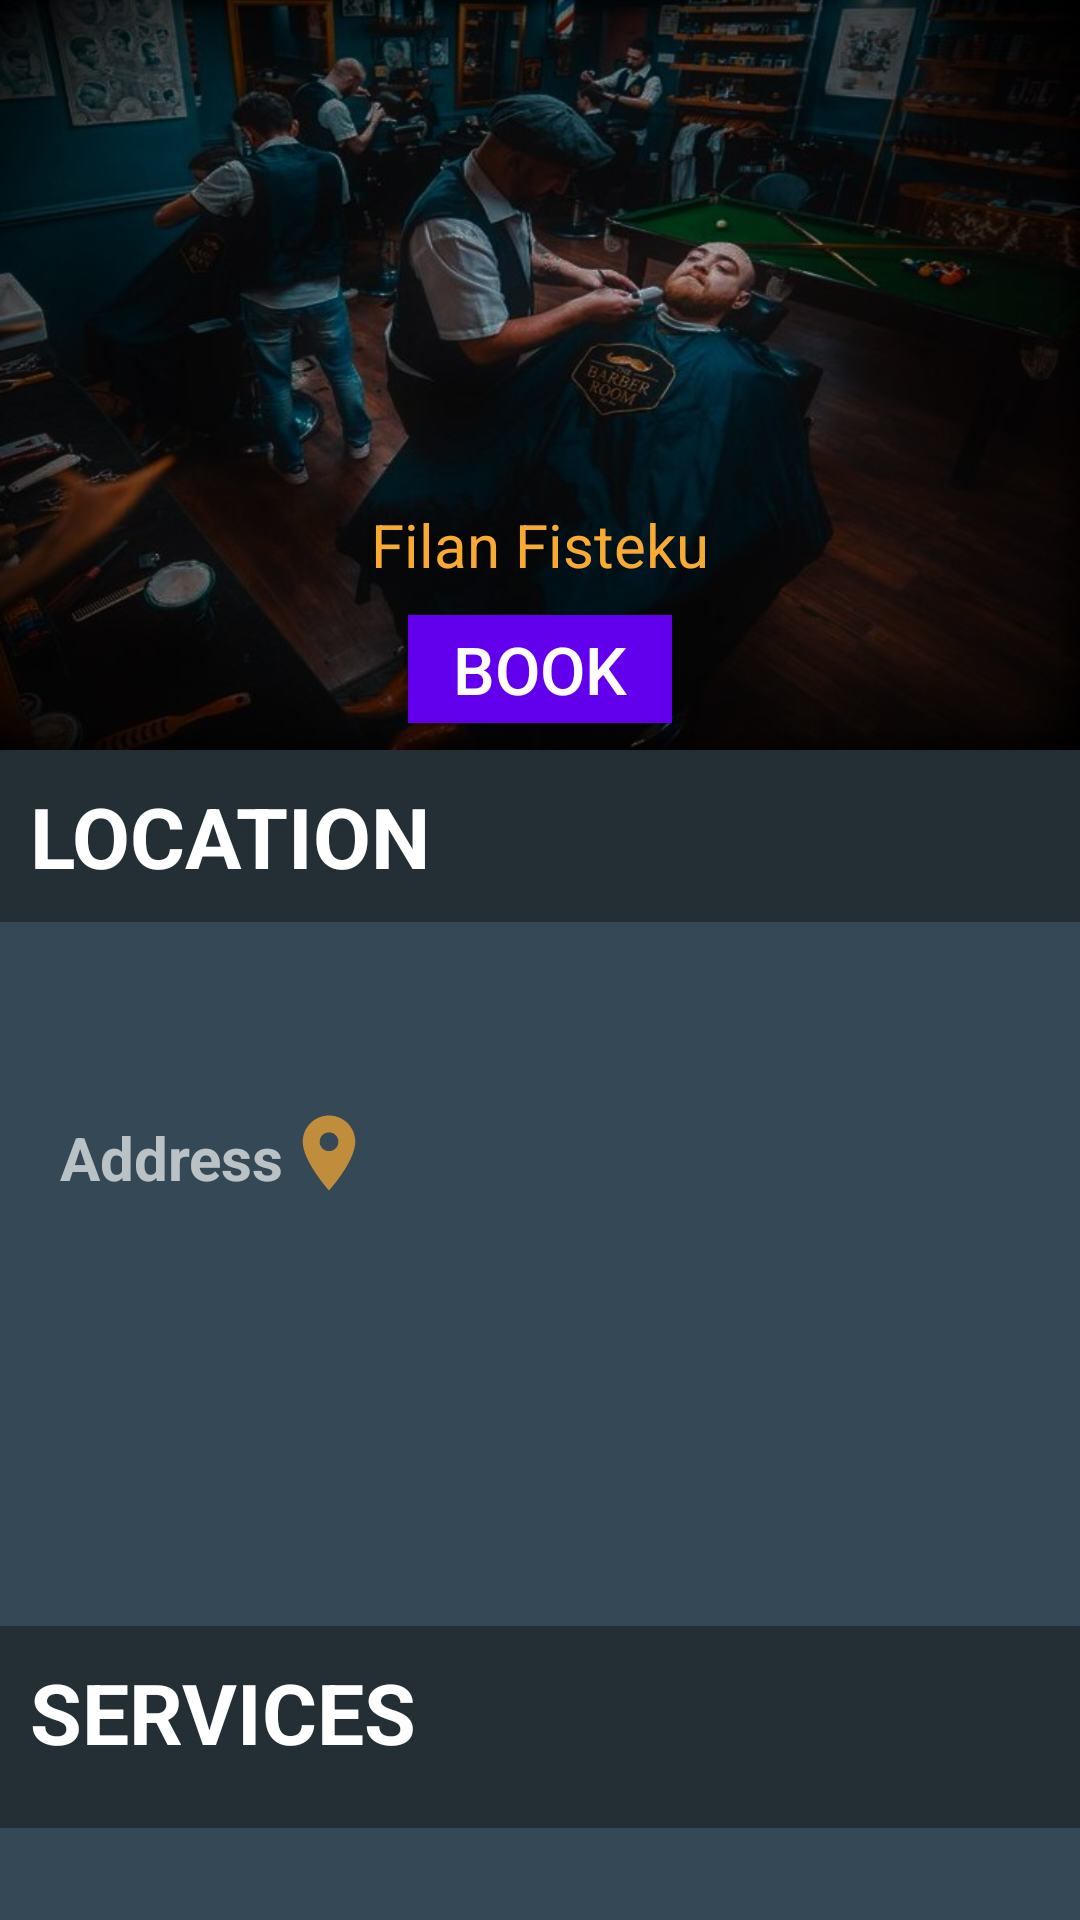

Where to tap for icons on this 1080px×1920px app screen, as (x=x, y=y):
location on: (x=329, y=1152)
